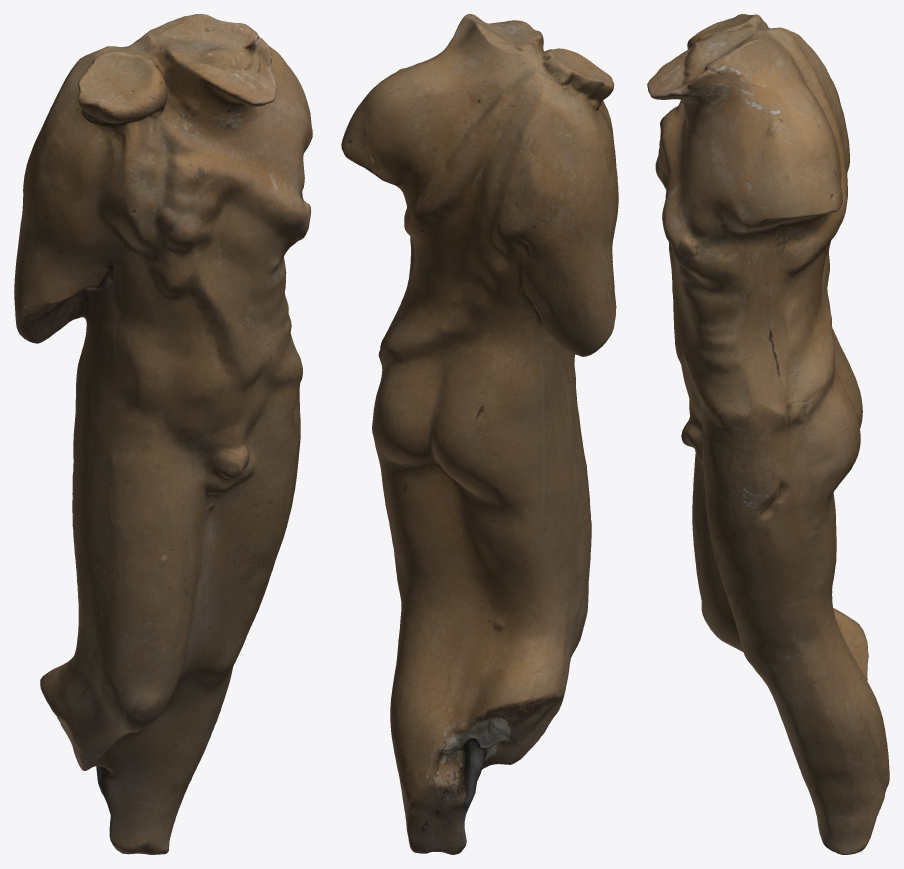
The model's file is escultura.glb.
3 views of the same model, side by side, from view 1: azimuth 30°, elevation 25°; view 2: azimuth 150°, elevation 25°; view 3: azimuth 270°, elevation 25° (orthographic). The views are drawn at different scales.
Parts seen in each view (by area): view 1: Object_2; view 2: Object_2; view 3: Object_2.
Boxes of the visible parts, x1,y1,x2,y2 form: Object_2: (14, 14, 312, 854); Object_2: (341, 14, 618, 854); Object_2: (647, 14, 889, 854).
Size of the model in its own units: 0.0584 by 0.1696 by 0.0462.
1 material, 1 textured.
